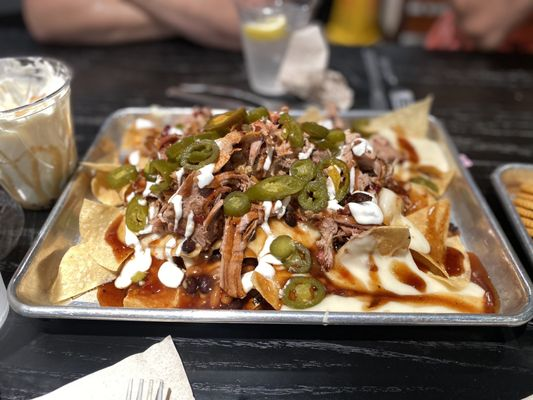pizza: (0, 56, 79, 214), (235, 0, 292, 98)
